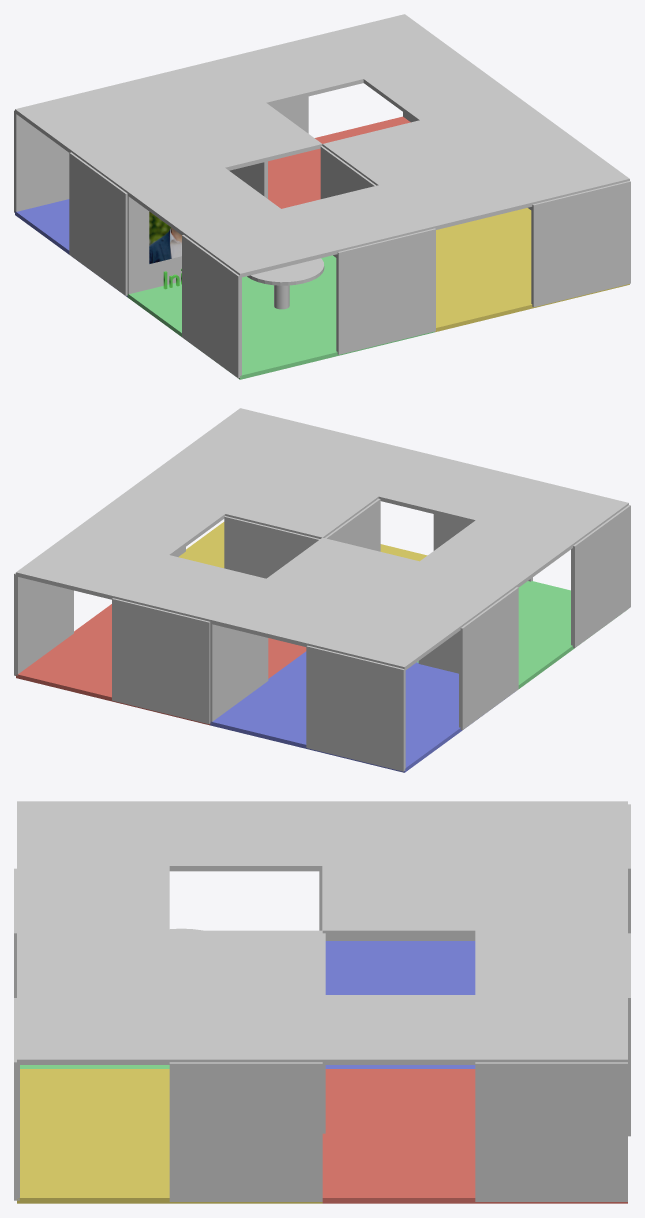
The model's file is 008-mesa con cilindros.glb.
3 views of the same model, one above another, from view 1: azimuth 30°, elevation 25°; view 2: azimuth 150°, elevation 25°; view 3: azimuth 270°, elevation 25° (orthographic). The views are drawn at different scales.
Visible parts, largest first — view 1: Cube.007, Cube.029, Cube.006, Cube.018, Cube.011, Cube.033, Cube.042, Cube.019, Cube.021, Cube.010, Cube.040, Cube.008 (+24 smaller); view 2: Cube.017, Cube.039, Cube.018, Cube.006, Cube.021, Cube.020, Cube.041, Cube.008, Cube.032, Cube.010, Cube.040, Cube.042 (+22 smaller); view 3: Cube.027, Cube.038, Cube.010, Cube.034, Cube.040, Cube.019, Cube.030, Cube.023, Cube.031, Cube.041, Cube.022, Cube.032 (+14 smaller).
Boxes of the visible parts, box(x1,y1,x2,y2) form: Cube.007: box(336, 228, 435, 354); Cube.029: box(531, 181, 630, 307); Cube.006: box(182, 235, 241, 378); Cube.018: box(69, 152, 127, 295); Cube.011: box(184, 209, 337, 277); Cube.033: box(379, 161, 532, 229); Cube.042: box(210, 38, 363, 105); Cube.019: box(169, 103, 322, 170); Cube.021: box(15, 85, 168, 152); Cube.010: box(127, 168, 280, 234); Cube.040: box(363, 55, 516, 120); Cube.008: box(282, 185, 434, 251); Cube.017: box(306, 645, 405, 771); Cube.039: box(112, 598, 210, 723); Cube.018: box(459, 587, 518, 730); Cube.006: box(571, 505, 630, 647); Cube.021: box(307, 602, 460, 669); Cube.020: box(210, 578, 362, 646); Cube.041: box(16, 531, 168, 599); Cube.008: box(378, 455, 531, 523); Cube.032: box(225, 473, 378, 538); Cube.010: box(420, 520, 572, 587); Cube.040: box(72, 490, 225, 555); Cube.042: box(113, 555, 265, 621); Cube.027: box(169, 1062, 322, 1201); Cube.038: box(475, 1062, 627, 1201); Cube.010: box(169, 801, 322, 871); Cube.034: box(322, 1133, 475, 1203); Cube.040: box(322, 995, 475, 1064); Cube.019: box(322, 866, 475, 935); Cube.030: box(17, 995, 169, 1064); Cube.023: box(17, 1133, 169, 1203); Cube.031: box(169, 995, 322, 1062); Cube.041: box(475, 995, 627, 1062); Cube.022: box(322, 801, 475, 865); Cube.032: box(169, 930, 322, 994).
Size of the model in its own units: 8.08 by 2.08 by 8.08.
7 materials, 1 textured.
